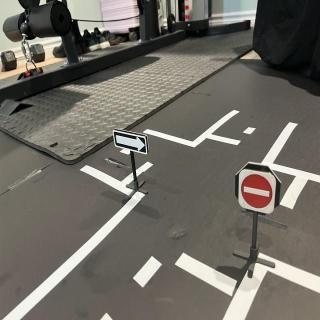sign_noentry: (238, 169, 280, 217)
sign_oneway_right: (112, 130, 151, 158)
